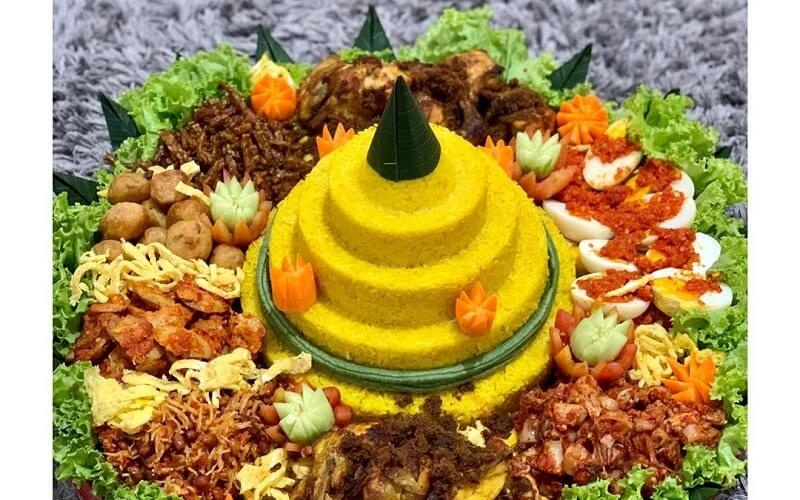tumpeng: (312, 83, 536, 248)
